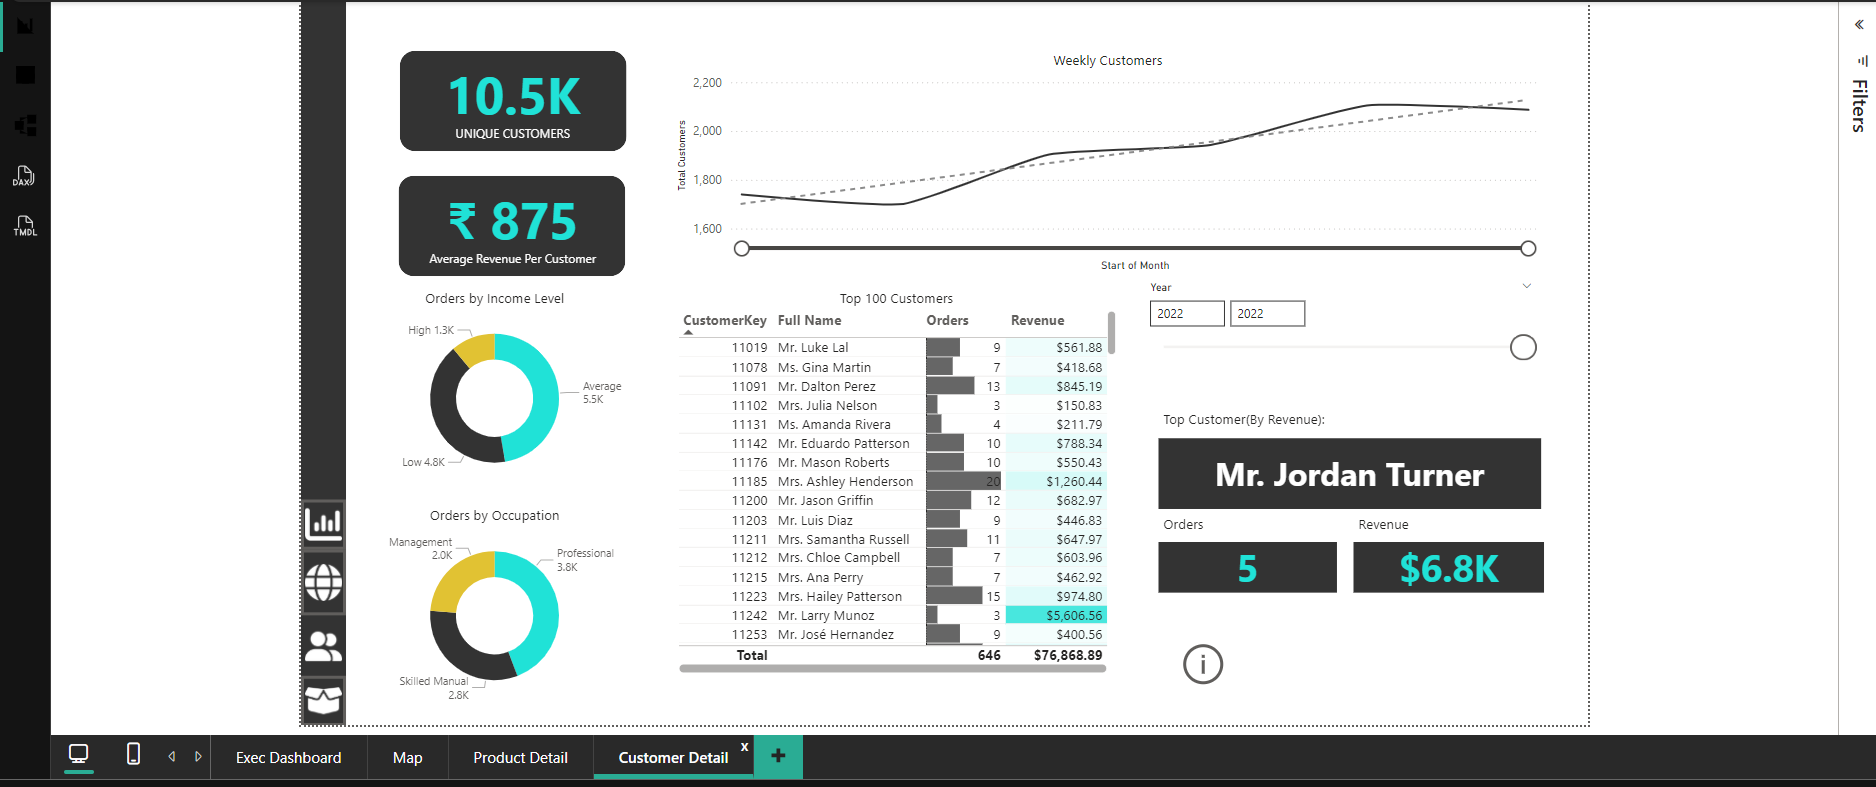

This screenshot's page, from the dashboard's own definition file:
{"tool":"powerbi","page":{"name":"Customer Detail","canvas":[1280,720],"ordinal":3},"visuals":[{"type":"shape","box":[0,0,45,720.7],"z":0},{"type":"shape","box":[96.6,172.4,225.9,100],"z":1000},{"type":"card","fields":{"Values":["Measure Table.Average Revenue Per Customer"]},"box":[82.8,148.3,255.2,150],"z":2000},{"type":"shape","box":[98.3,48,225.9,100],"z":3000},{"type":"card","fields":{"Values":["Measure Table.Total Customers"]},"box":[82.8,24.1,255.2,150],"z":4000},{"type":"lineChart","title":"Weekly Customers","fields":{"Y":["Measure Table.Total Customers"],"Category":["Calendar Lookup.Date Hierarchy.Start of Year","Calendar Lookup.Date Hierarchy.Start of Month","Calendar Lookup.Date Hierarchy.Start of Week","Calendar Lookup.Date Hierarchy.Date"]},"box":[369,48.3,867.2,224.1],"z":5000},{"type":"donutChart","title":"Orders by Income Level","fields":{"Y":["Measure Table.Total Orders"],"Category":["Customer Lookup.Income Level"]},"box":[60.3,284.5,263.8,201.7],"z":6000},{"type":"donutChart","title":"Orders by Occupation","fields":{"Y":["Measure Table.Total Orders"],"Category":["Customer Lookup.Occupation"]},"box":[60.3,501.7,263.8,201.7],"z":7000},{"type":"tableEx","title":"Top 100 Customers","fields":{"Values":["Customer Lookup.CustomerKey","Customer Lookup.Full Name","Measure Table.Total Orders","Measure Table.Total Revenue"]},"box":[369,284.5,446.6,387.9],"z":8000},{"type":"card","fields":{"Values":["Min(Customer Lookup.Full Name)"]},"box":[852.9,433.9,381,70.7],"z":9000},{"type":"card","fields":{"Values":["Measure Table.Total Orders"]},"box":[852.9,537.9,177.6,50],"z":10000},{"type":"card","fields":{"Values":["Measure Table.Total Revenue"]},"box":[1047.7,537.4,189.7,50],"z":11000},{"type":"textbox","box":[852.9,401.1,177.6,32.8],"z":12000},{"type":"textbox","box":[852.9,505.2,177.6,32.8],"z":13000},{"type":"textbox","box":[1047.7,504.6,177.6,32.8],"z":14000},{"type":"slicer","fields":{"Values":["Calendar Lookup.Year"]},"box":[832.8,272.4,405.2,87.9],"z":15000},{"type":"actionButton","box":[872.4,632.8,353.4,51.7],"z":16000},{"type":"actionButton","box":[0,670,44.8,50],"z":17000},{"type":"actionButton","box":[0,494.8,44.8,50],"z":18000},{"type":"actionButton","box":[0,544.8,44.8,65.5],"z":19000},{"type":"actionButton","box":[0,610.3,44.8,60.3],"z":20000}]}

Visuals, with their boxes on the page's 1280x720 design canvas (x1, y1, x2, y2). These are canvas units, not pixel positions in the 1876x787 screenshot, which may show the page scaled, cropped or inside an application window:
shape: 0, 0, 45, 721
shape: 97, 172, 322, 272
card - Measure Table.Average Revenue Per Customer: 83, 148, 338, 298
shape: 98, 48, 324, 148
card - Measure Table.Total Customers: 83, 24, 338, 174
"Weekly Customers" lineChart: 369, 48, 1236, 272
"Orders by Income Level" donutChart: 60, 284, 324, 486
"Orders by Occupation" donutChart: 60, 502, 324, 703
"Top 100 Customers" tableEx: 369, 284, 816, 672
card - Min(Customer Lookup.Full Name): 853, 434, 1234, 505
card - Measure Table.Total Orders: 853, 538, 1030, 588
card - Measure Table.Total Revenue: 1048, 537, 1237, 587
textbox: 853, 401, 1030, 434
textbox: 853, 505, 1030, 538
textbox: 1048, 505, 1225, 537
slicer - Calendar Lookup.Year: 833, 272, 1238, 360
actionButton: 872, 633, 1226, 684
actionButton: 0, 670, 45, 720
actionButton: 0, 495, 45, 545
actionButton: 0, 545, 45, 610
actionButton: 0, 610, 45, 671
